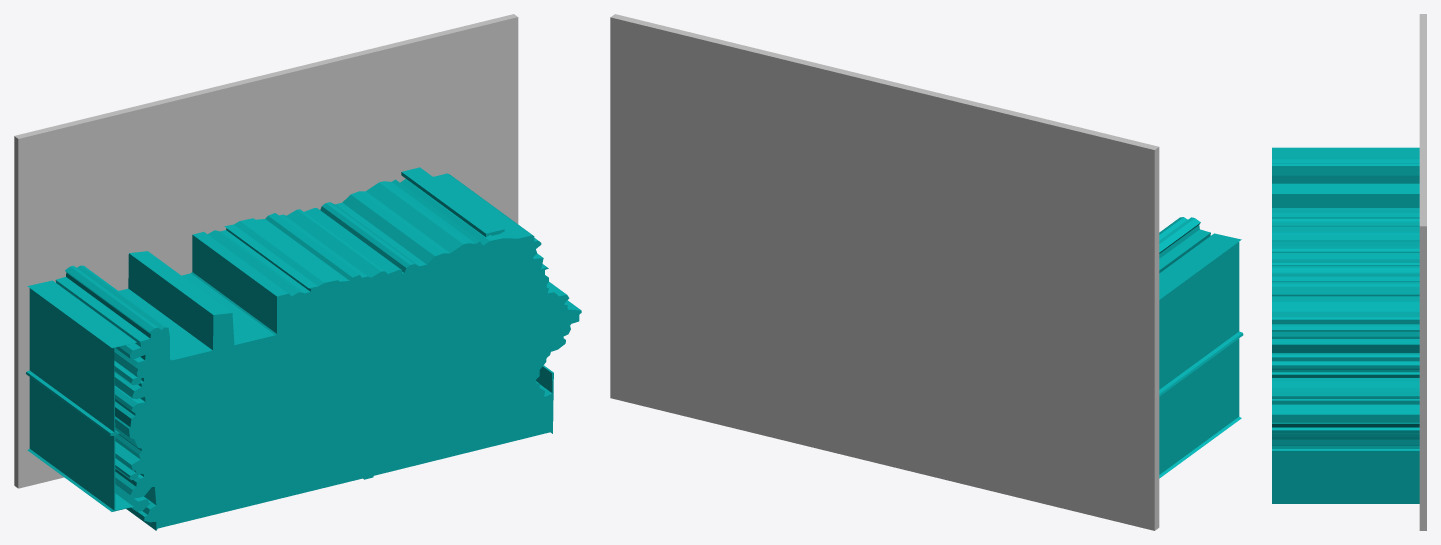
3 views of the same model, side by side, from view 1: azimuth 30°, elevation 25°; view 2: azimuth 150°, elevation 25°; view 3: azimuth 270°, elevation 25° (orthographic). The views are drawn at different scales.
Visible parts, largest first — view 1: world; view 2: world; view 3: world.
Part boxes in pixels (x1,y1,x2,y2): world: (14, 14, 581, 530); world: (610, 14, 1243, 530); world: (1272, 14, 1426, 530).
Size of the model in its own units: 10.23 by 6.84 by 3.15.
